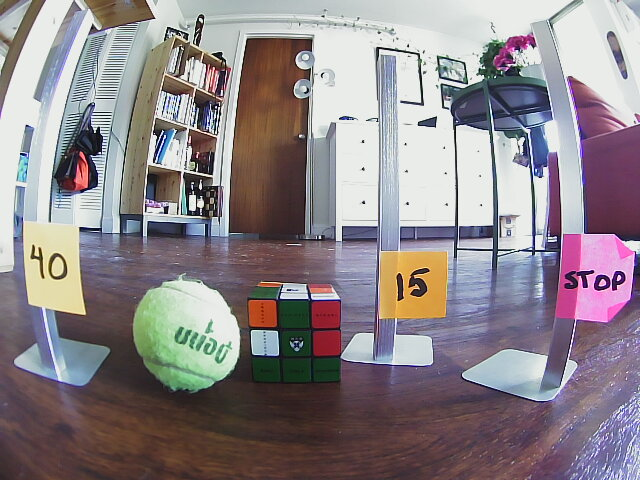15: (380, 252, 446, 317)
40: (24, 223, 80, 309)
ball: (132, 275, 240, 392)
cube: (247, 279, 345, 386)
stop: (562, 235, 631, 319)
